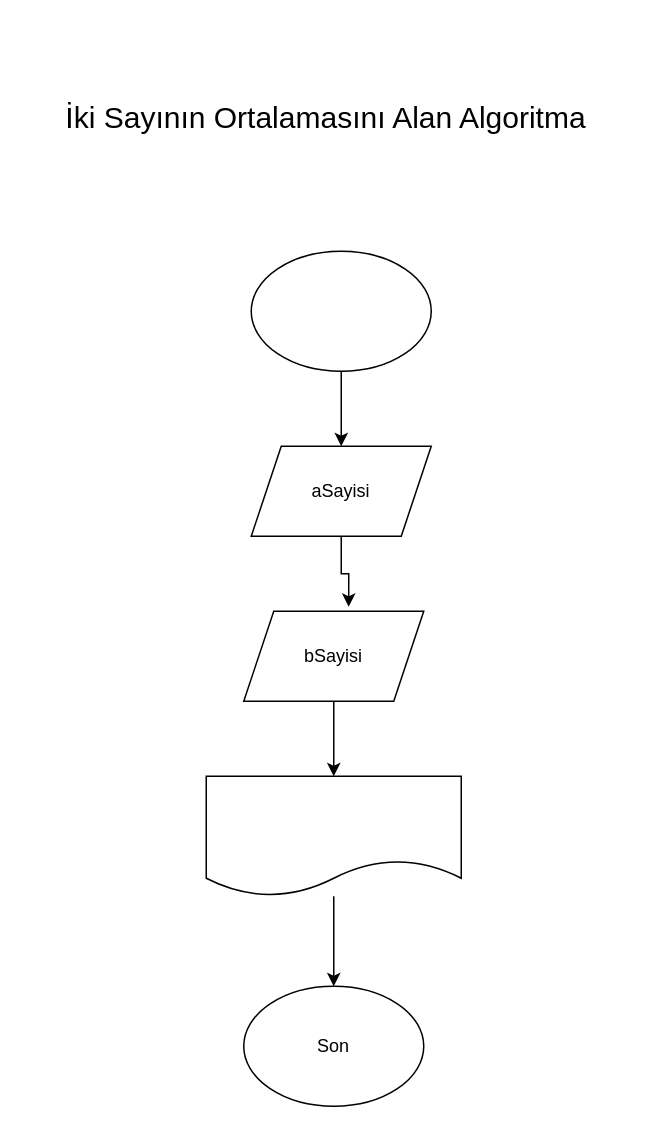
Image size: 651x1133. Some labels were removed from this diagram. The centre of each missing label's shape, as x and y in pixels:
(aSayisi + bSayisi) /2: point 333,835
Başla: point 340,310
